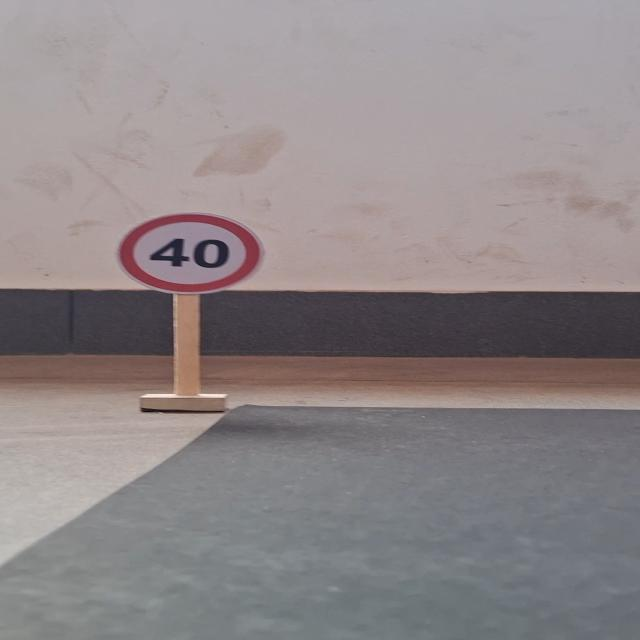Speed40: (117, 212, 266, 296)
